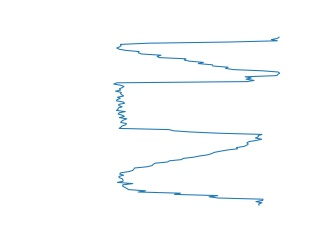distributaryChannelFill: (111, 72, 266, 143)
mouthBar: (113, 29, 283, 75)
underwaterDistributaryChannel: (115, 136, 266, 207)
